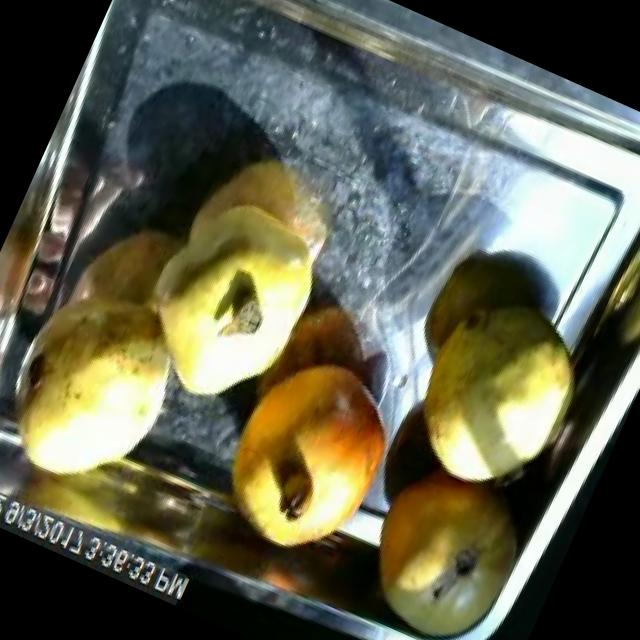fruit: (97, 152, 370, 448), (190, 319, 430, 583), (380, 264, 613, 517), (0, 256, 211, 523), (336, 453, 549, 640)
